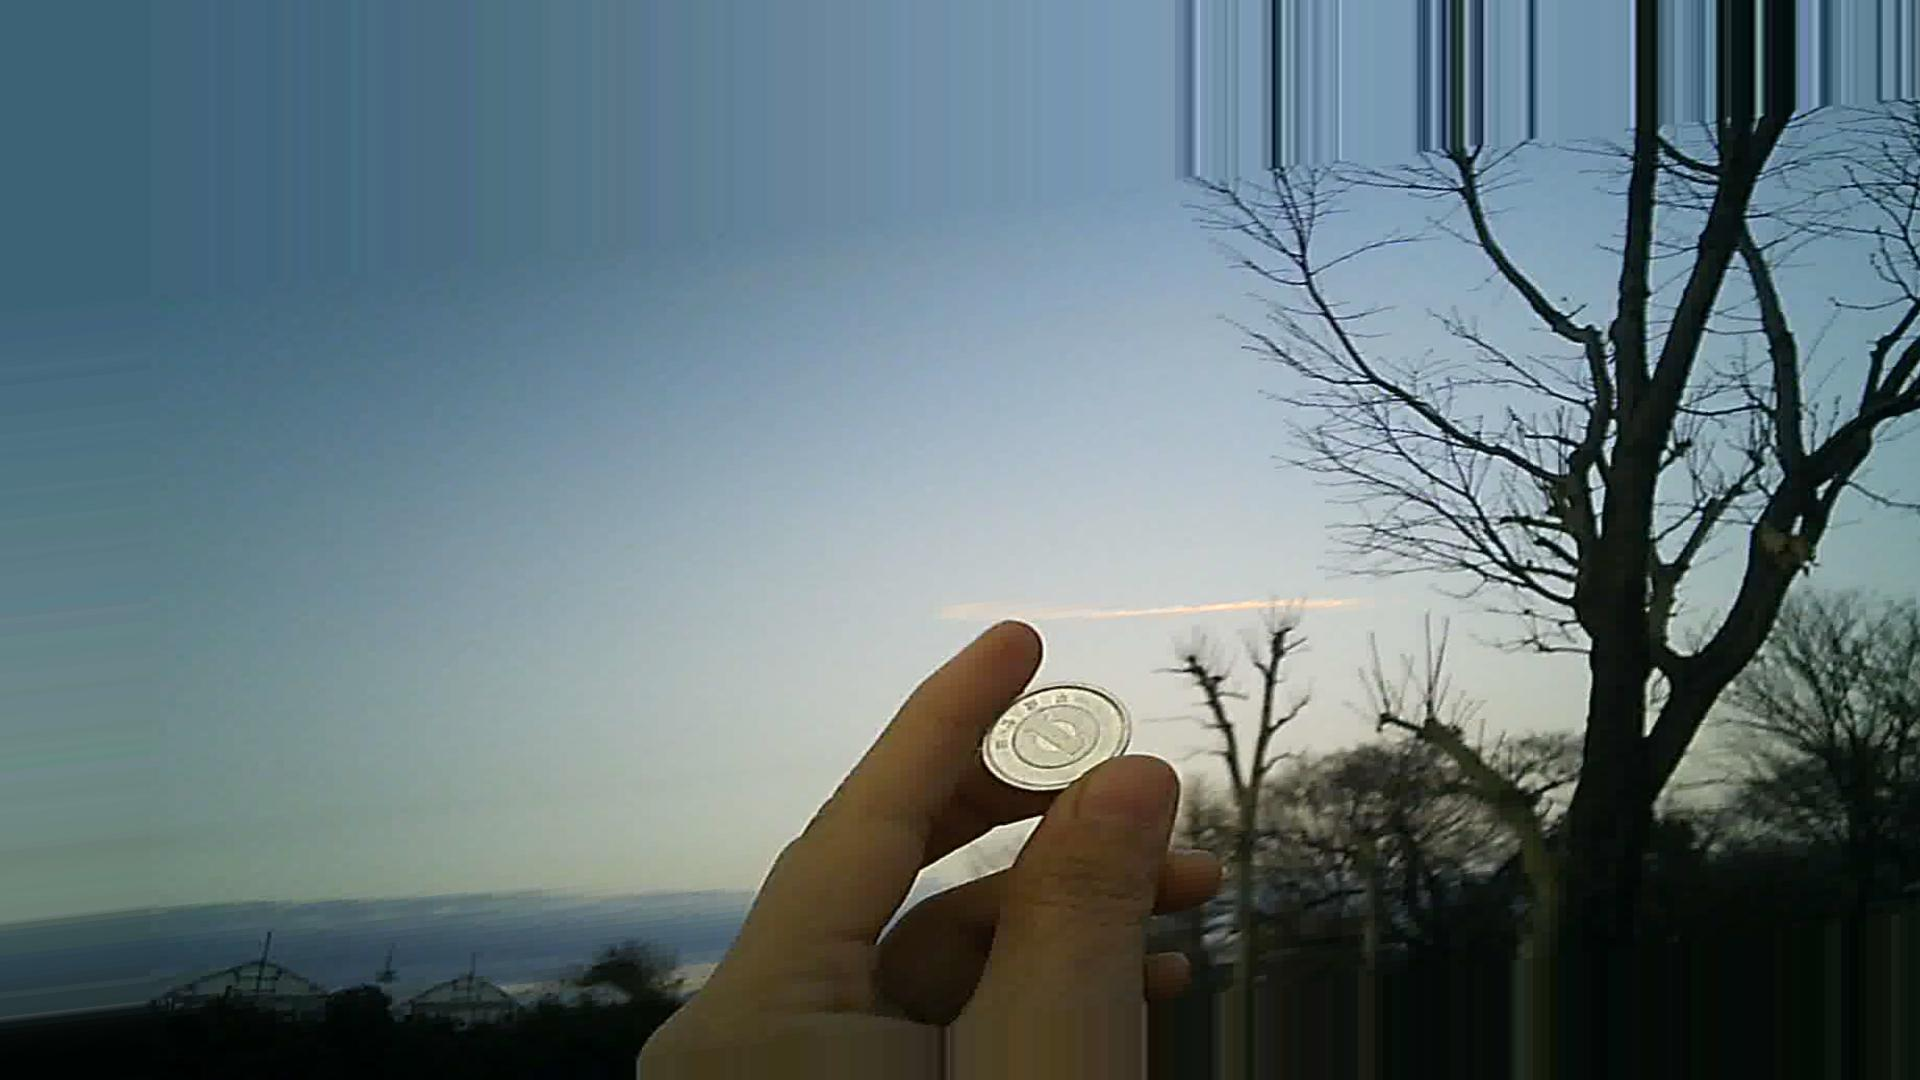1 Yen: (975, 670, 1143, 790)
